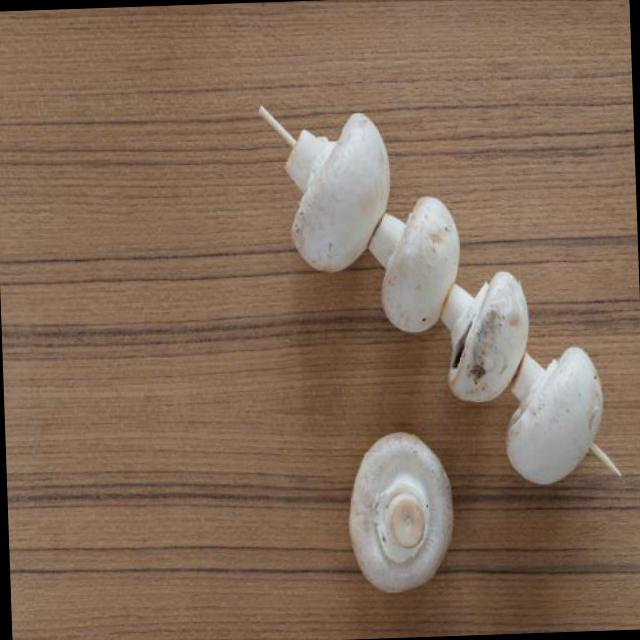Agaricus bisporus: (264, 110, 394, 282), (335, 428, 458, 590), (495, 348, 604, 482), (422, 265, 528, 401), (362, 195, 462, 328)
